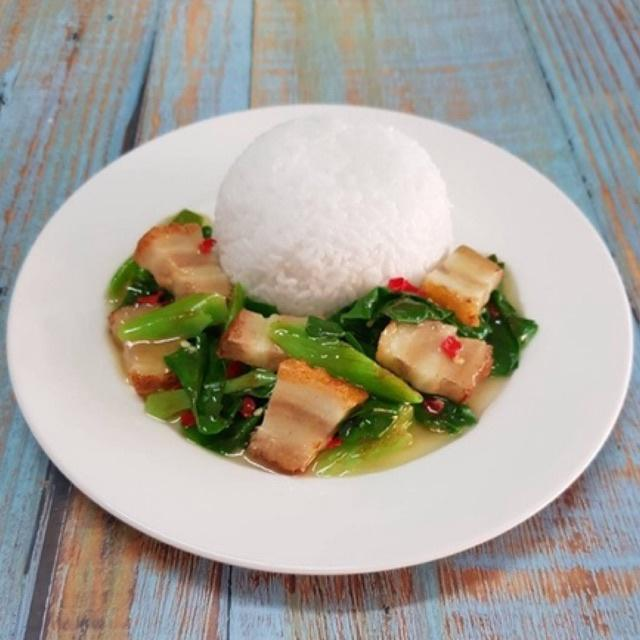cac loai rau cu: (115, 117, 537, 475), (130, 339, 268, 441), (473, 275, 553, 383), (320, 342, 437, 405), (150, 357, 272, 415), (357, 253, 438, 333), (395, 393, 502, 450), (107, 240, 149, 310)
com: (215, 115, 452, 306)
com chien cai xoan: (368, 387, 382, 387)
thit heo: (241, 357, 387, 484), (377, 318, 499, 394), (130, 220, 230, 299), (222, 299, 335, 366), (112, 306, 180, 391), (427, 240, 499, 316), (220, 309, 310, 361)
